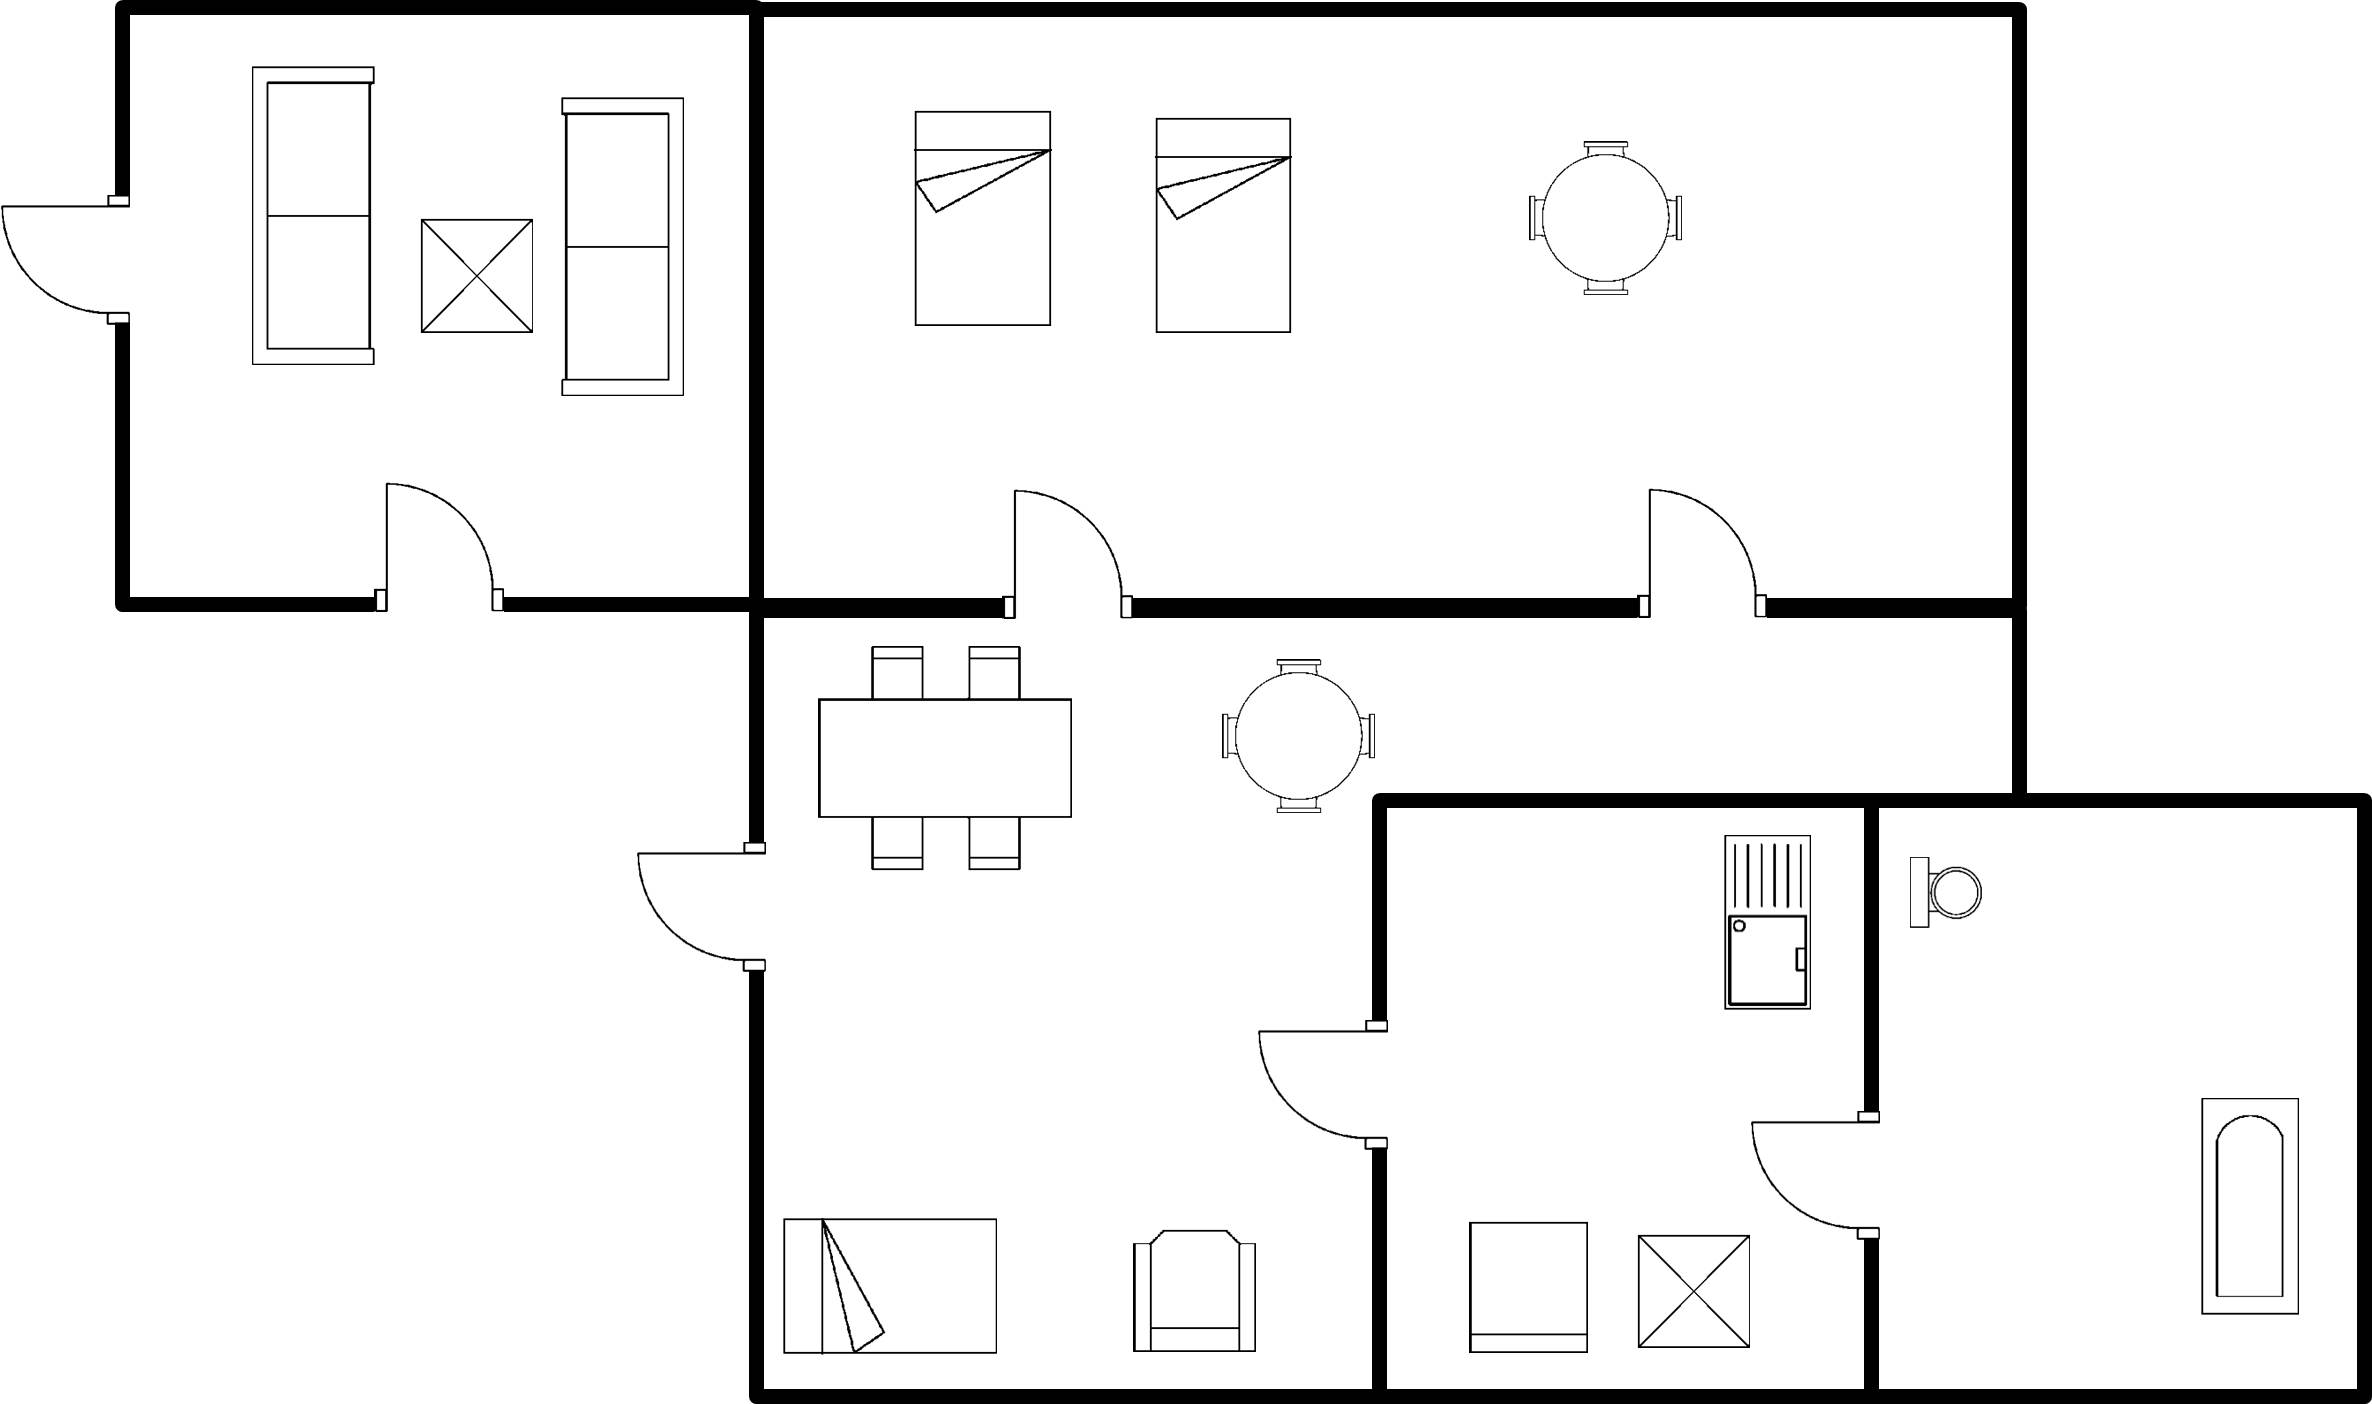armchair: (1119, 1217, 1269, 1364)
bed: (903, 103, 1068, 339), (774, 1205, 1012, 1369), (1146, 107, 1305, 349)
coffee_table: (1624, 1219, 1773, 1369), (408, 205, 539, 349)
dining_table: (807, 629, 1086, 883)
large_sink: (1896, 839, 1995, 944)
large_sofa: (547, 83, 696, 413), (242, 52, 388, 378)
round_table: (1510, 129, 1693, 312), (1210, 649, 1381, 827)
sink: (1710, 824, 1824, 1027)
small_sofa: (1451, 1208, 1602, 1364)
tub: (2186, 1083, 2315, 1329)
